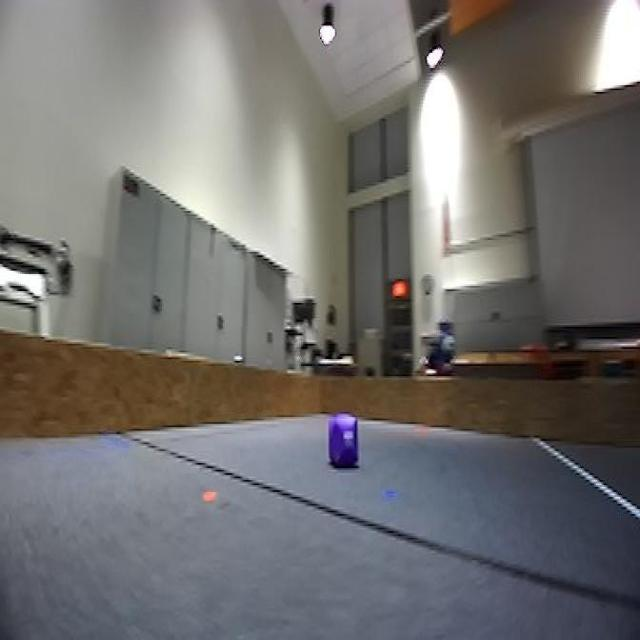frc_cube: (328, 414, 361, 469)
